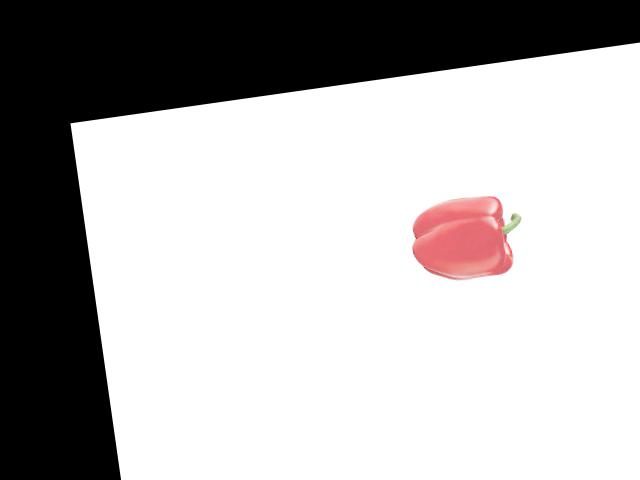bell_pepper: (402, 185, 529, 292)
